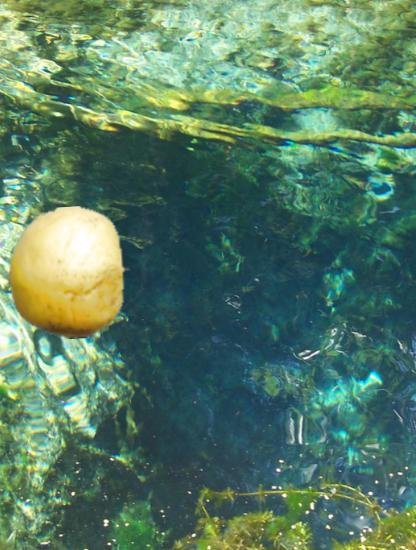Apple: (2, 207, 134, 339)
